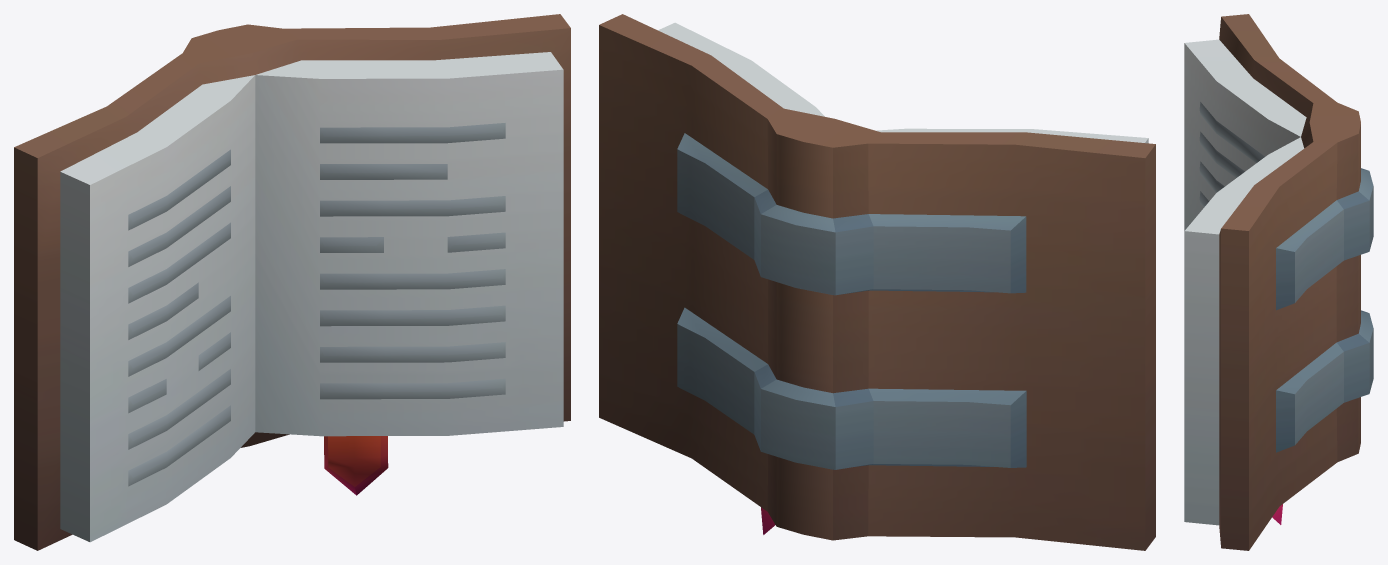
The model's file is journal_open.glb.
3 renders of one model, left to right at view 1: azimuth 30°, elevation 25°; view 2: azimuth 150°, elevation 25°; view 3: azimuth 270°, elevation 25°, orthographic. The views are drawn at different scales.
Visible parts, largest first — view 1: journal_open; view 2: journal_open; view 3: journal_open.
Boxes of the visible parts, left/top/right/bottom form: journal_open: left=14, top=14, right=570, bottom=550; journal_open: left=599, top=14, right=1155, bottom=550; journal_open: left=1184, top=14, right=1373, bottom=550.
Size of the model in its own units: 0.9386 by 0.7408 by 0.3454.
1 material, 1 textured.
